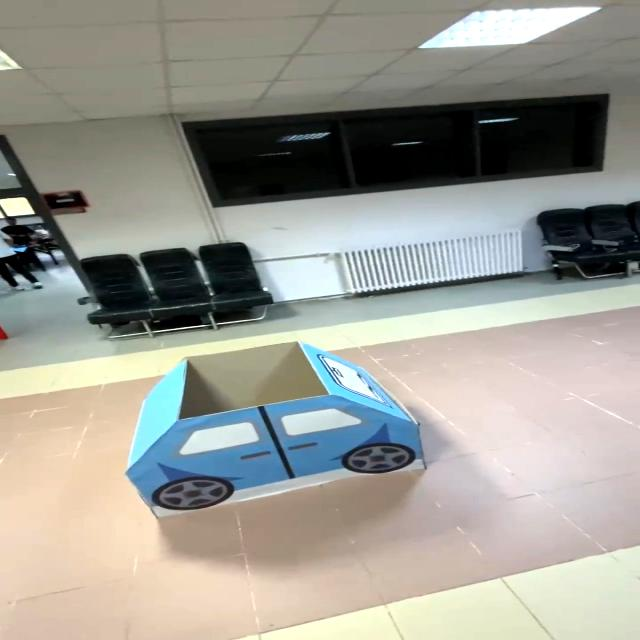blue_car: (121, 333, 441, 524)
